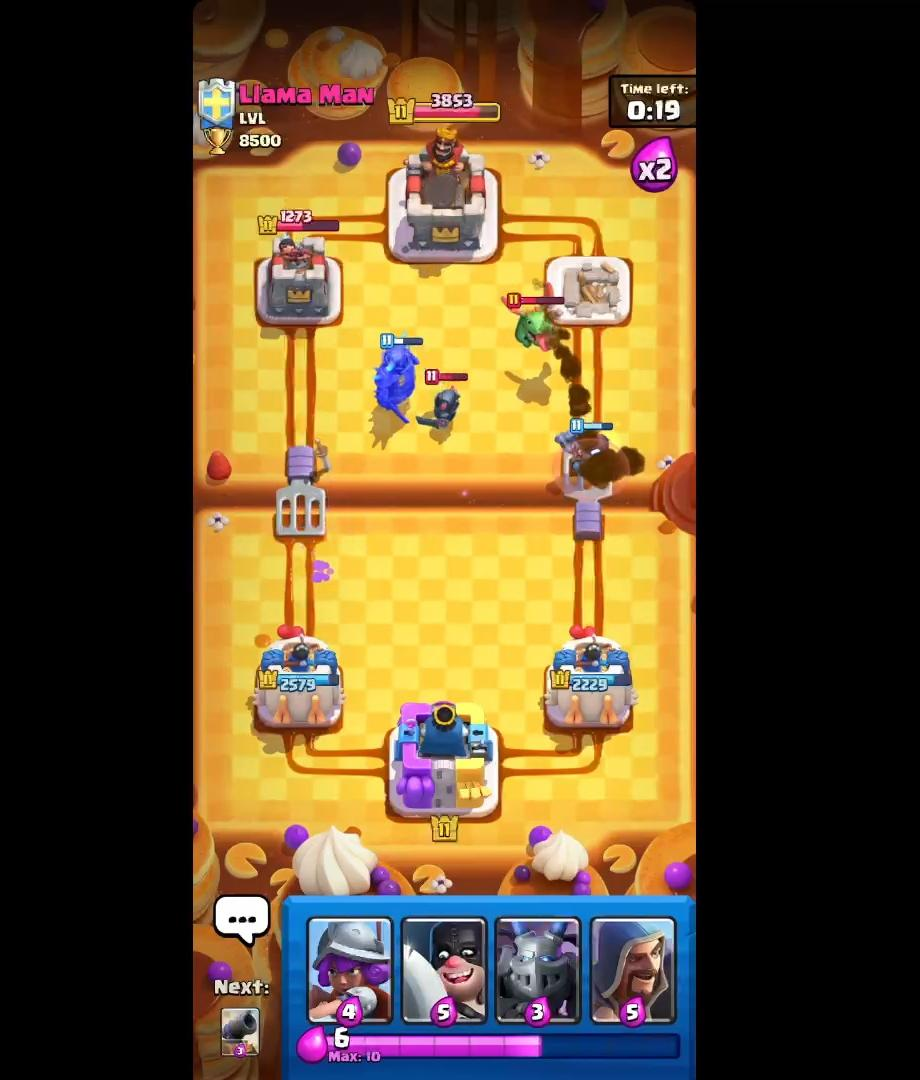Baby Dragon: (497, 286, 572, 357)
Mini Pekka: (420, 359, 474, 446)
